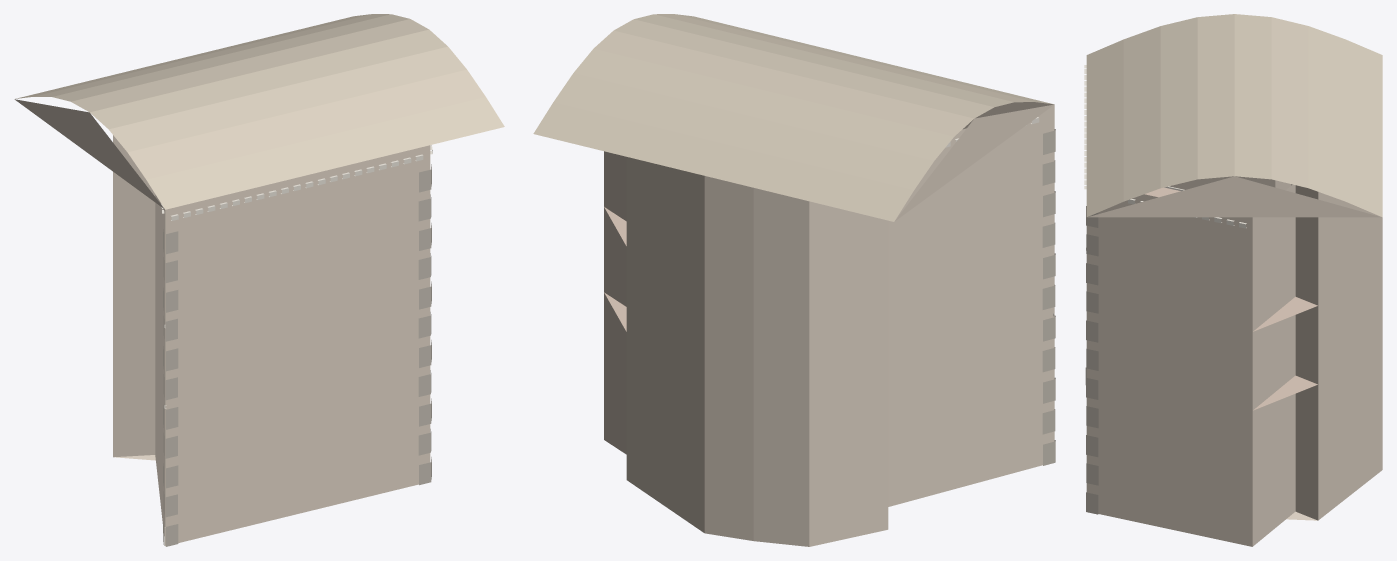
3 renders of one model, left to right at view 1: azimuth 30°, elevation 25°; view 2: azimuth 150°, elevation 25°; view 3: azimuth 270°, elevation 25°, orthographic. The views are drawn at different scales.
Visible parts, largest first — view 1: W-36; view 2: W-36; view 3: W-36.
Part boxes in pixels (<box>): W-36: <box>14,14,504,546</box>; W-36: <box>533,14,1055,546</box>; W-36: <box>1084,14,1382,546</box>.
Bounding box in the file's own units: 9.75 × 10.35 × 7.55.
